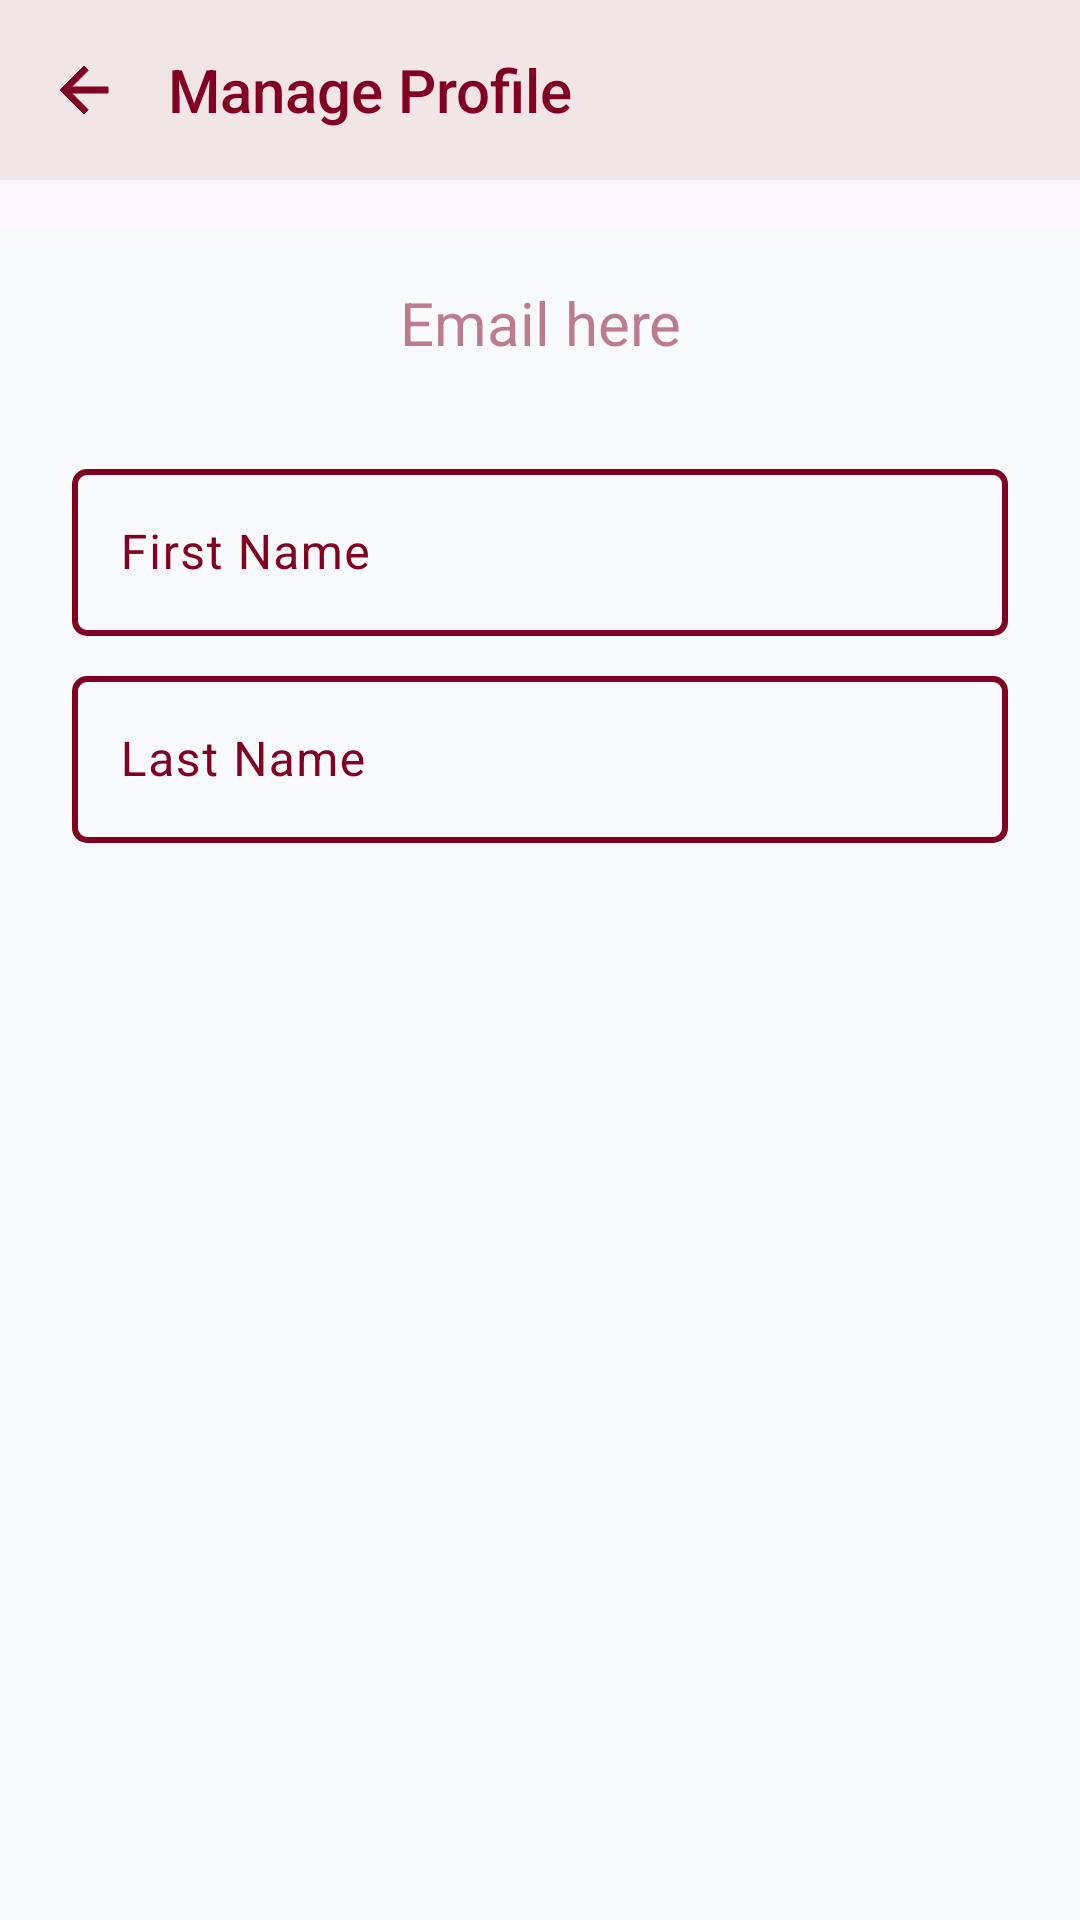

Icons on this 1080px×1920px Android screen, each with the point to tap as [x,y]:
Back: [84,90]
